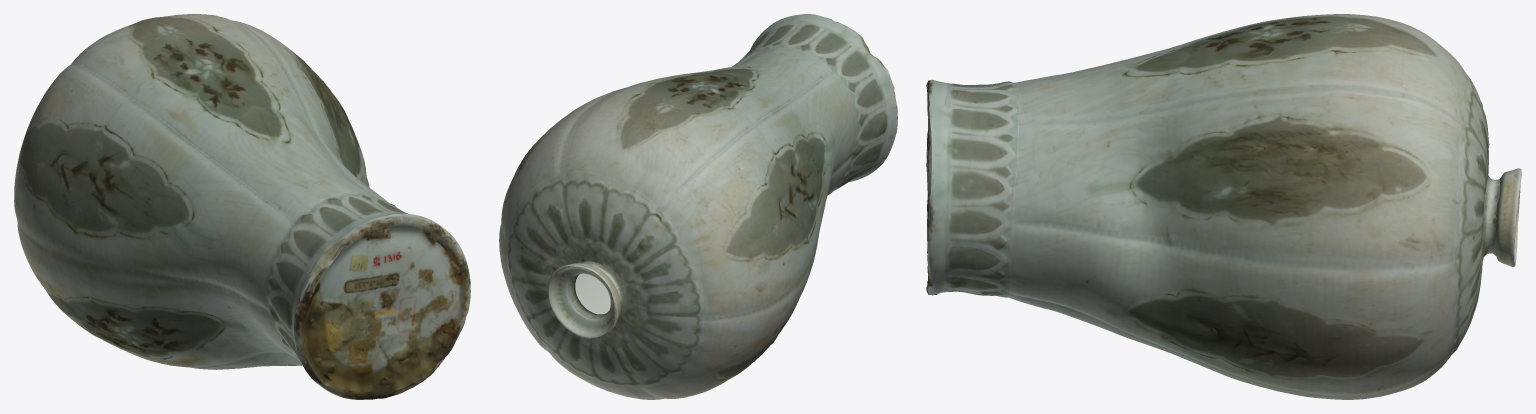
File: nmk-4229.glb
3 views of the same model, side by side, from view 1: azimuth 30°, elevation 25°; view 2: azimuth 150°, elevation 25°; view 3: azimuth 270°, elevation 25° (orthographic). The views are drawn at different scales.
Parts seen in each view (by area): view 1: duk001316-000-30000; view 2: duk001316-000-30000; view 3: duk001316-000-30000.
Part boxes in pixels (box(x1,y1,x2,y2)): duk001316-000-30000: box(14, 14, 470, 399); duk001316-000-30000: box(499, 14, 897, 399); duk001316-000-30000: box(926, 14, 1521, 399).
Size of the model in its own units: 0.9414 by 0.9505 by 1.49.
Materials: 1 (1 with a texture image).
